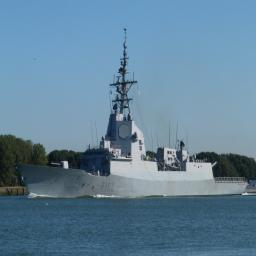Fragata: (14, 25, 250, 199)
